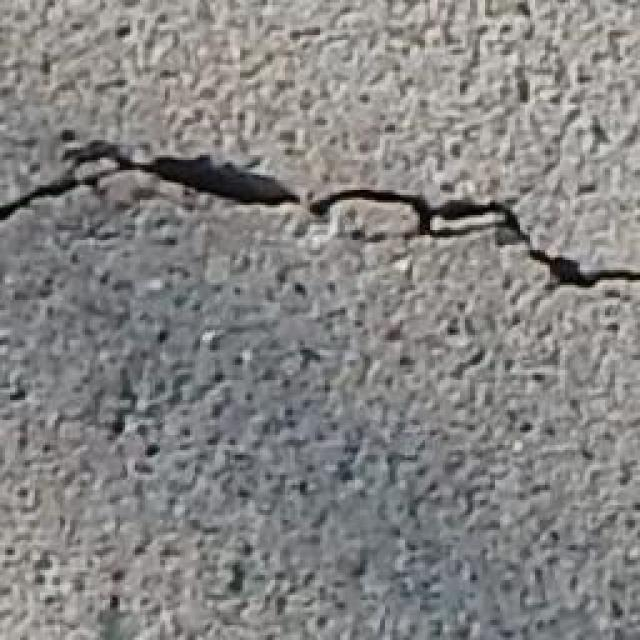concrete-crack: (0, 132, 640, 297)
